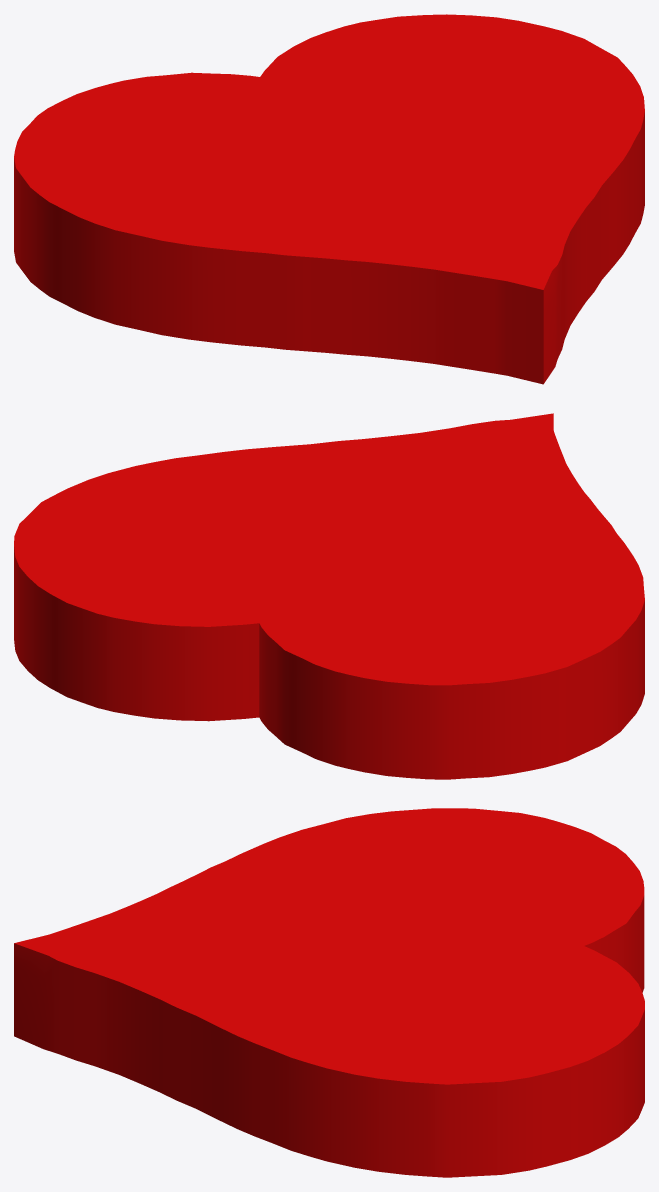
The model's file is 2016_14_04_Extruded_Heart_No_Cuts.fbx.
3 views of the same model, one above another, from view 1: azimuth 30°, elevation 25°; view 2: azimuth 150°, elevation 25°; view 3: azimuth 270°, elevation 25° (orthographic).
Visible parts, largest first — view 1: polySurface1; view 2: polySurface1; view 3: polySurface1.
Boxes of the visible parts, x1,y1,x2,y2 form: polySurface1: (14, 14, 644, 384); polySurface1: (14, 413, 644, 779); polySurface1: (14, 808, 644, 1177).
Size of the model in its own units: 25.47 by 4 by 24.57.
